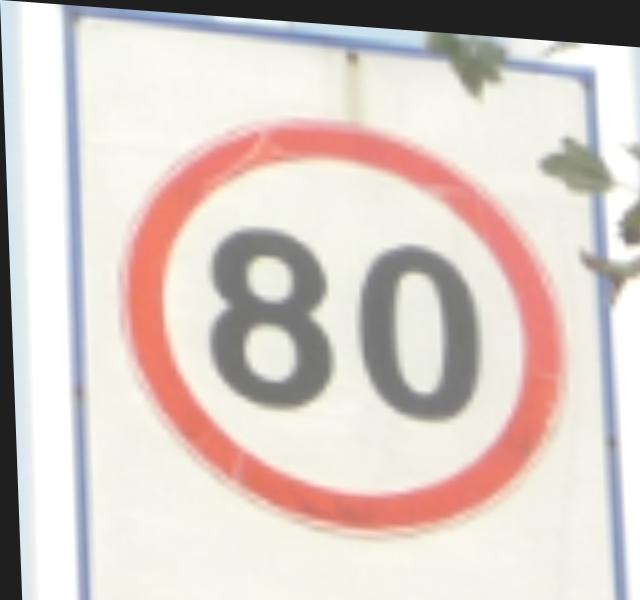limit80: (105, 91, 580, 558)
